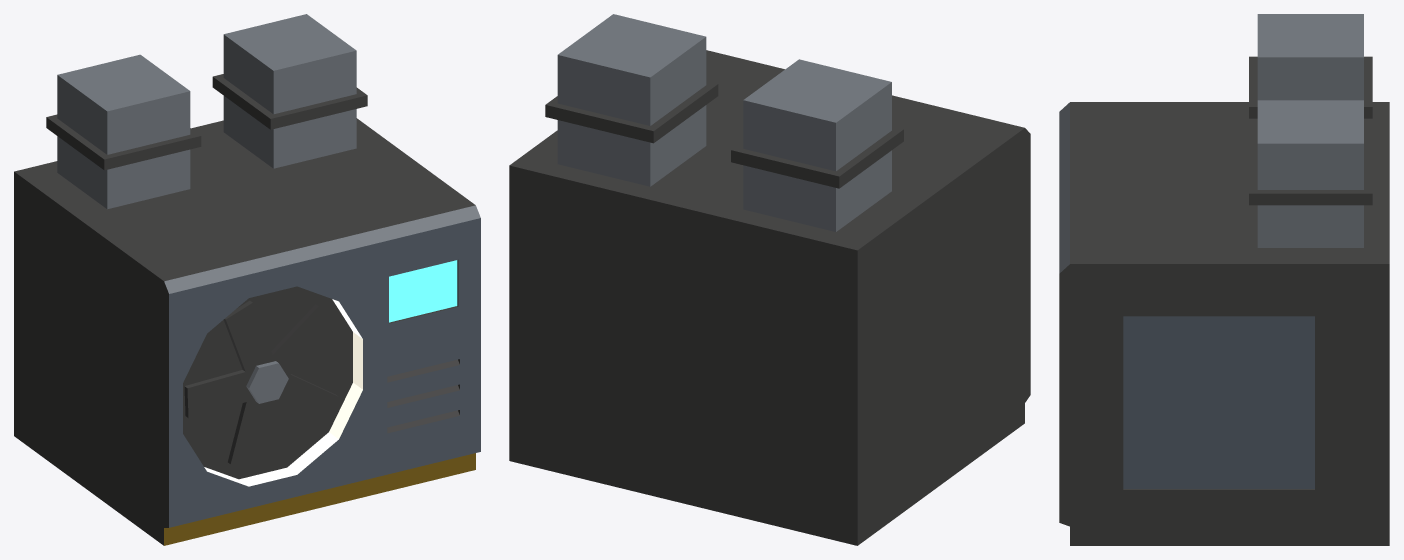
The model's file is ls_air_handler.glb.
3 renders of one model, left to right at view 1: azimuth 30°, elevation 25°; view 2: azimuth 150°, elevation 25°; view 3: azimuth 270°, elevation 25°, orthographic. The views are drawn at different scales.
Visible parts, largest first — view 1: ls_air_handler; view 2: ls_air_handler; view 3: ls_air_handler.
Boxes of the visible parts, x1,y1,x2,y2 form: ls_air_handler: [14, 14, 480, 545]; ls_air_handler: [509, 14, 1030, 545]; ls_air_handler: [1059, 14, 1389, 545].
Bounding box in the file's own units: 1.8 × 2 × 1.55.
